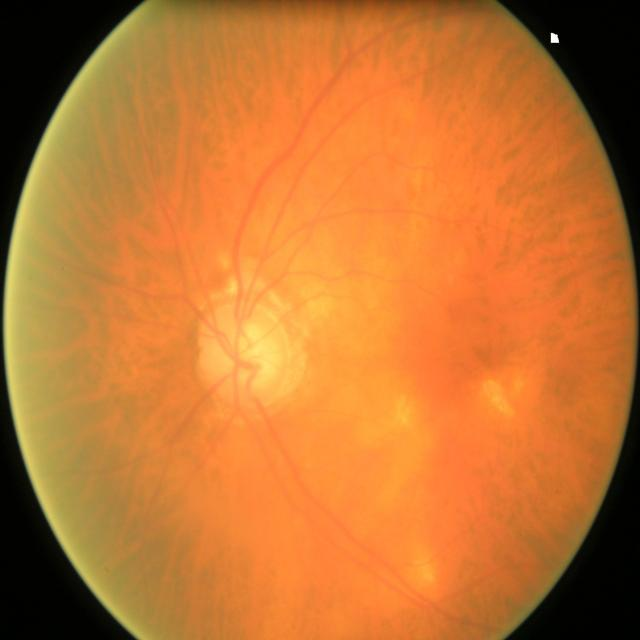OC: (237, 327, 273, 384)
OD: (195, 292, 292, 406)
